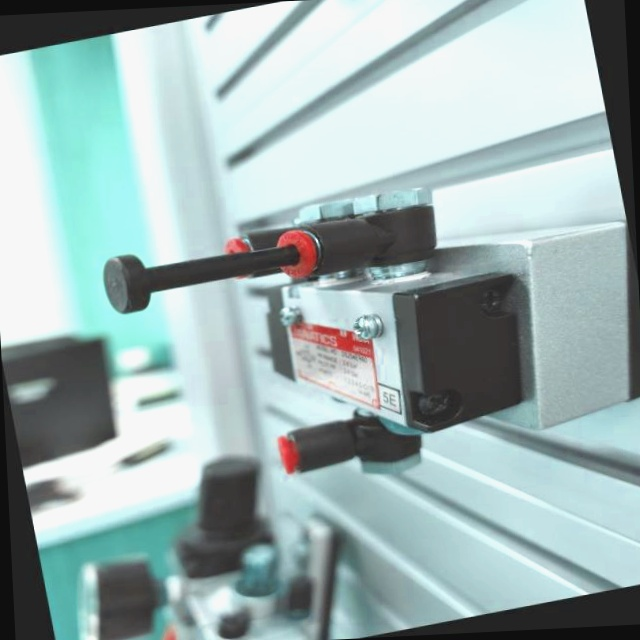5by2 DCV: (79, 129, 640, 535)
